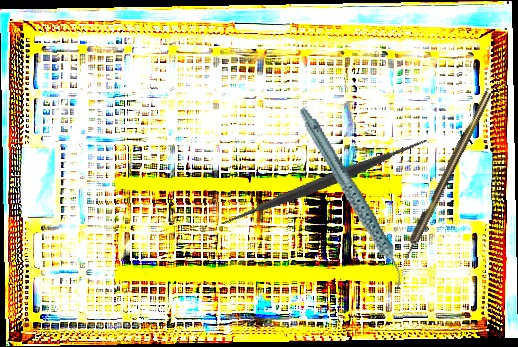Handpiece: (297, 94, 406, 301)
Hook Surgical: (396, 90, 494, 268)
Spatula Surgical: (209, 67, 439, 297)
